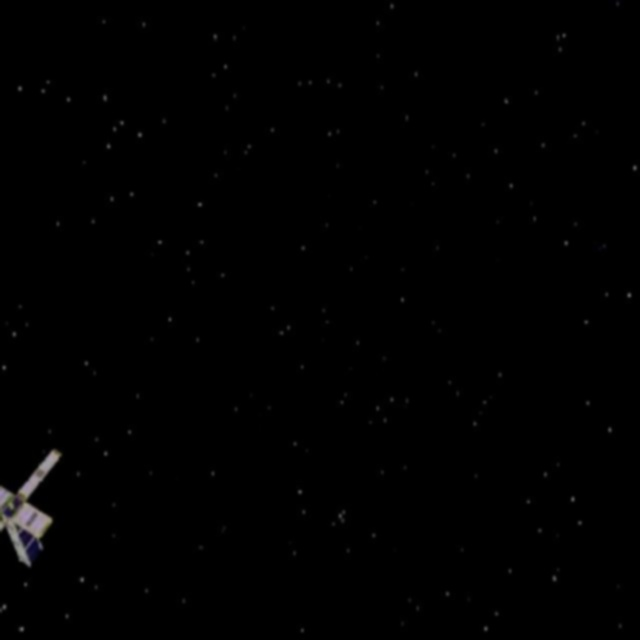satellite: (0, 446, 66, 565)
